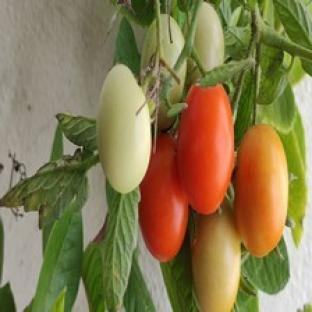Tomato: (177, 85, 233, 214), (234, 124, 288, 257), (98, 65, 151, 193), (140, 134, 189, 261), (193, 201, 240, 311), (194, 2, 224, 71), (161, 14, 183, 68)
